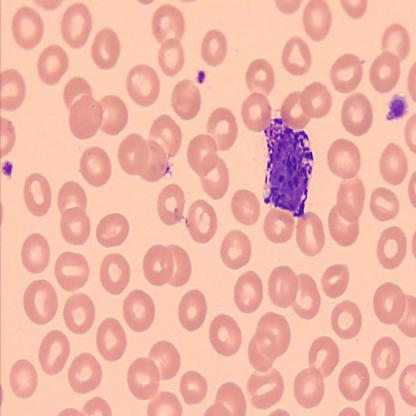Basophil: (261, 114, 315, 219)
